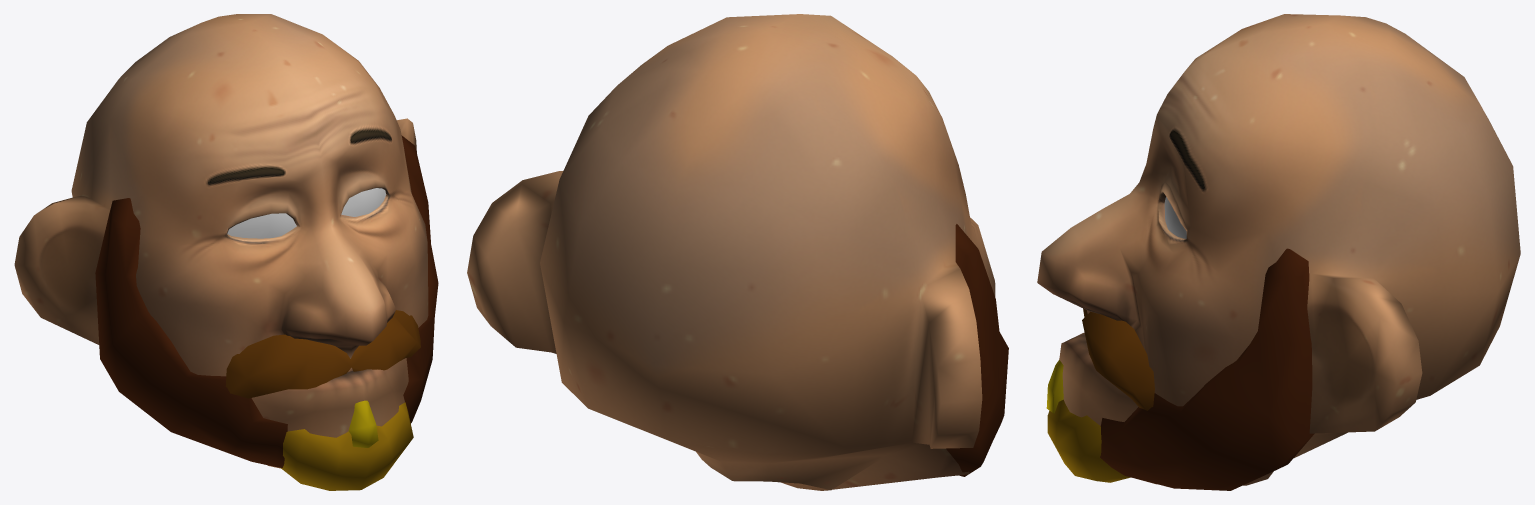
The model's file is E_sitpose01.fbx.
3 views of the same model, side by side, from view 1: azimuth 30°, elevation 25°; view 2: azimuth 150°, elevation 25°; view 3: azimuth 270°, elevation 25° (orthographic). The views are drawn at different scales.
Parts seen in each view (by area): view 1: HEAD, BEARD; view 2: HEAD, BEARD; view 3: HEAD, BEARD.
Part boxes in pixels (left/top/right/bottom): HEAD: left=14, top=14, right=428, bottom=468; BEARD: left=95, top=135, right=438, bottom=490; HEAD: left=467, top=14, right=995, bottom=490; BEARD: left=946, top=224, right=1008, bottom=476; HEAD: left=1037, top=14, right=1520, bottom=485; BEARD: left=1046, top=248, right=1314, bottom=490.
Size of the model in its own units: 27.45 by 25.39 by 24.9.
